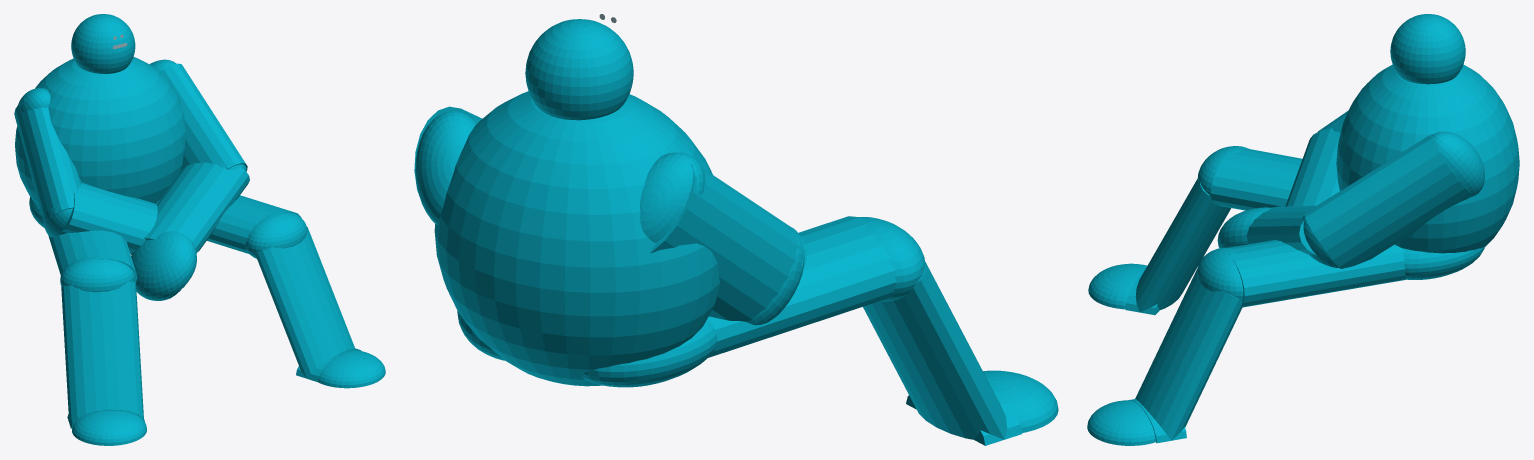
Rendered from Amazing Tumelo.glb.
The picture shows the model from 3 angles, left to right: view 1: azimuth 30°, elevation 25°; view 2: azimuth 150°, elevation 25°; view 3: azimuth 270°, elevation 25°; orthographic projection. The views are drawn at different scales.
Parts seen in each view (by area): view 1: Mesh_Mesh_head_geo.001_lambert2SG.001; view 2: Mesh_Mesh_head_geo.001_lambert2SG.001; view 3: Mesh_Mesh_head_geo.001_lambert2SG.001.
Boxes of the visible parts, x1,y1,x2,y2 form: Mesh_Mesh_head_geo.001_lambert2SG.001: [14, 14, 385, 445]; Mesh_Mesh_head_geo.001_lambert2SG.001: [414, 14, 1058, 445]; Mesh_Mesh_head_geo.001_lambert2SG.001: [1087, 14, 1519, 445].
Bounding box in the file's own units: 38.16 × 35 × 40.09.
